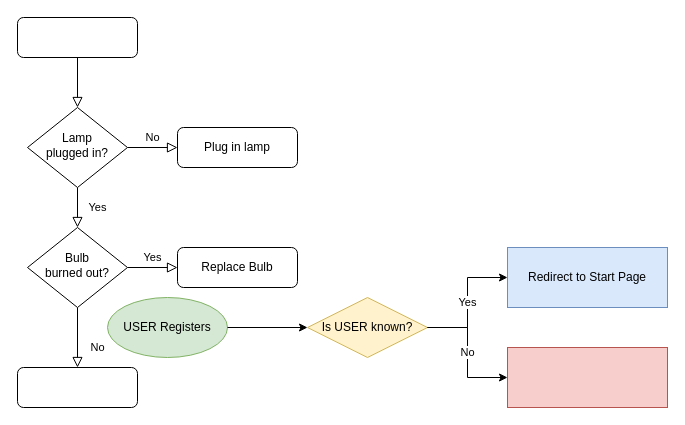
The diagram is 685 pixels wide and 425 high, and some of its shapes have lost their labels. Each missing label, with the centre of its shape:
Lamp doesn't work: point 77,37
Repair Lamp: point 77,387
Show Registration Page: point 587,377
